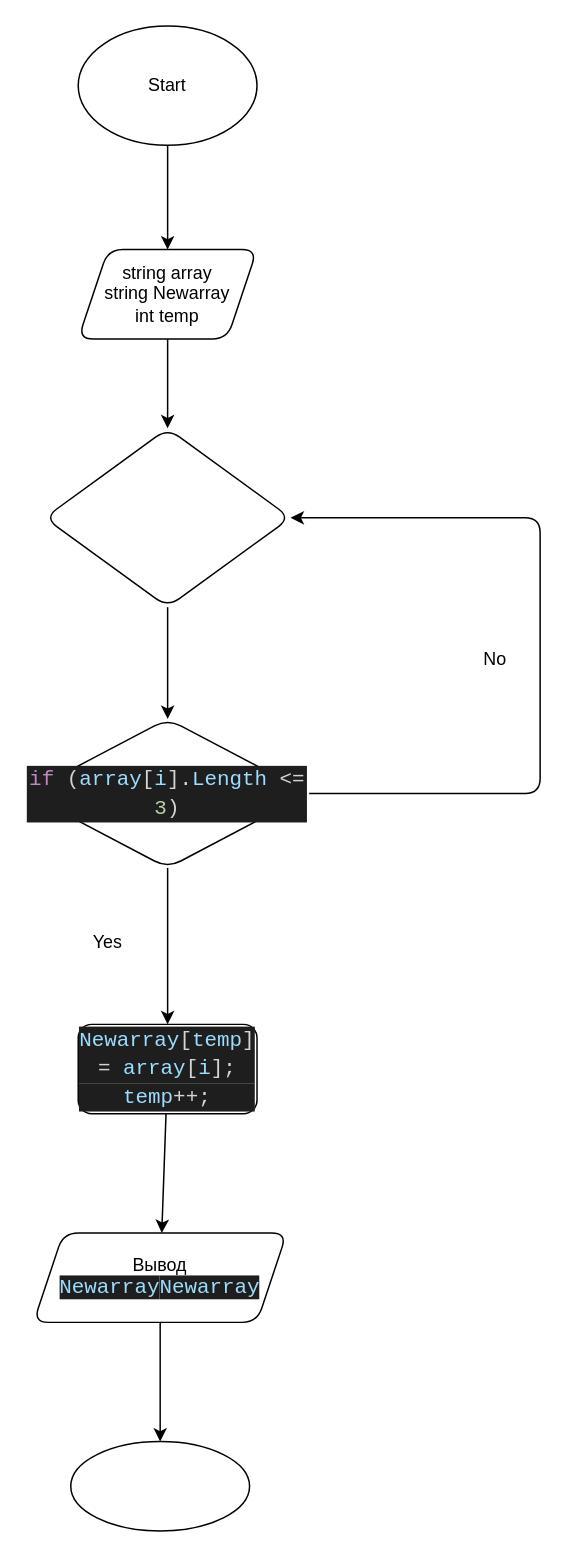
Image size: 578x1557. Some labels were removed from this diagram. The shapes that lost their labels are listed below. From the top down, each one's box as (x1, y1, x2, y2) in pixels, then its label:
(43, 427, 291, 607): For ( int i = 0 ; i < array . Length ; i ++
(69, 1440, 250, 1531): End
